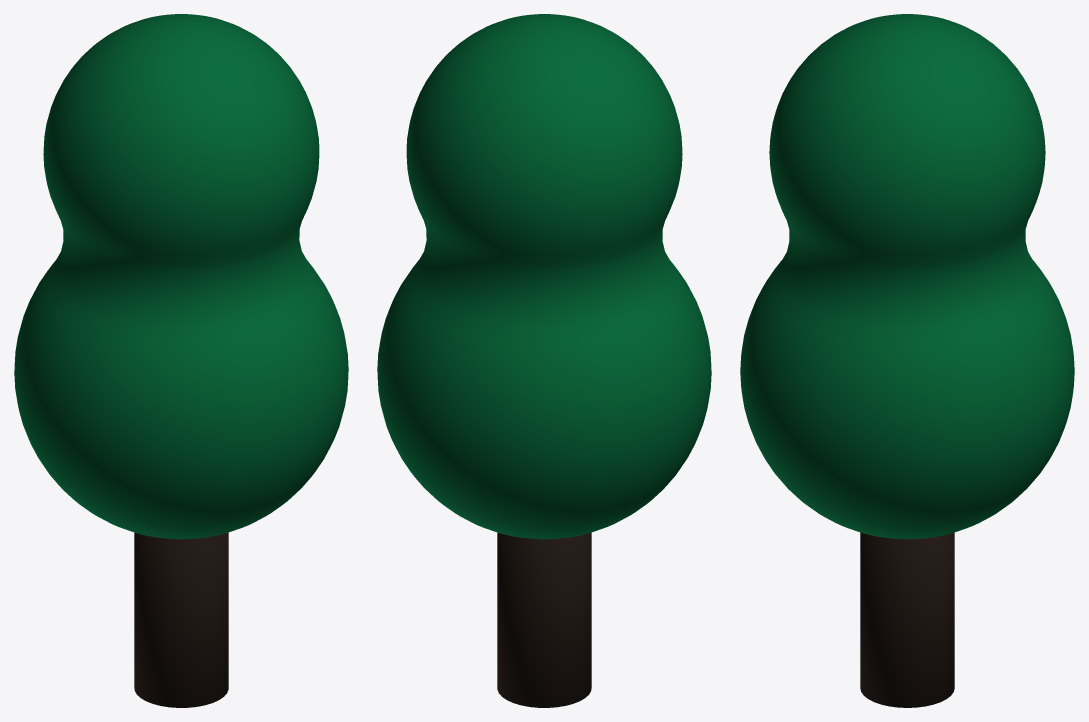
3 renders of one model, left to right at view 1: azimuth 30°, elevation 25°; view 2: azimuth 150°, elevation 25°; view 3: azimuth 270°, elevation 25°, orthographic.
Parts seen in each view (by area): view 1: leaf, wood; view 2: leaf, wood; view 3: leaf, wood.
Part boxes in pixels (box(x1,y1,x2,y2)): leaf: box(14, 14, 348, 539); wood: box(134, 532, 228, 707); leaf: box(377, 14, 711, 539); wood: box(497, 532, 591, 707); leaf: box(740, 14, 1074, 539); wood: box(860, 532, 954, 707).
Bounding box in the file's own units: 1.44 × 3.14 × 1.44.
